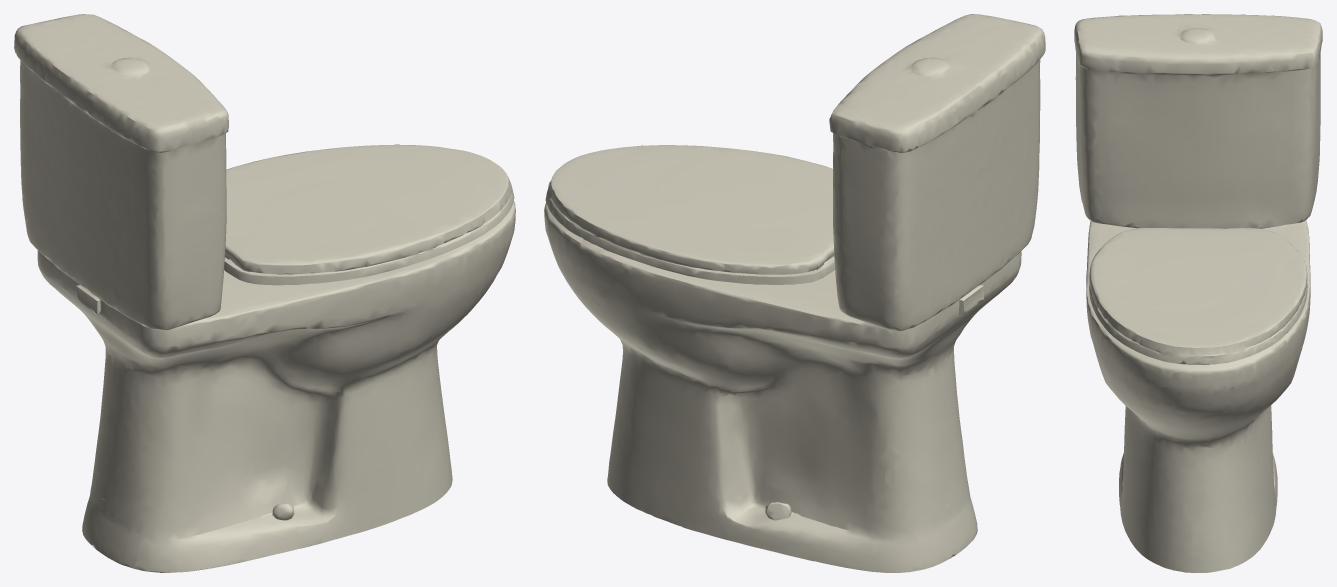
The picture shows the model from 3 angles, left to right: view 1: azimuth 30°, elevation 25°; view 2: azimuth 150°, elevation 25°; view 3: azimuth 270°, elevation 25°; orthographic projection. The views are drawn at different scales.
Parts seen in each view (by area): view 1: world_0; view 2: world_0; view 3: world_0.
Part boxes in pixels (box(x1,y1,x2,y2)): world_0: box(14, 14, 515, 572); world_0: box(544, 14, 1045, 572); world_0: box(1074, 14, 1322, 572).
Bounding box in the file's own units: 0.9275 × 0.9888 × 0.5432.
1 material, 1 textured.
